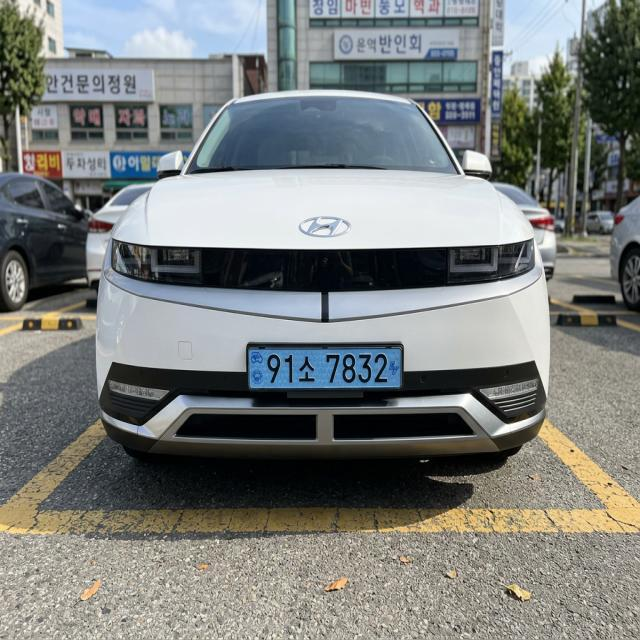car: (234, 330, 422, 404)
carev: (248, 345, 265, 390), (388, 343, 403, 393)
